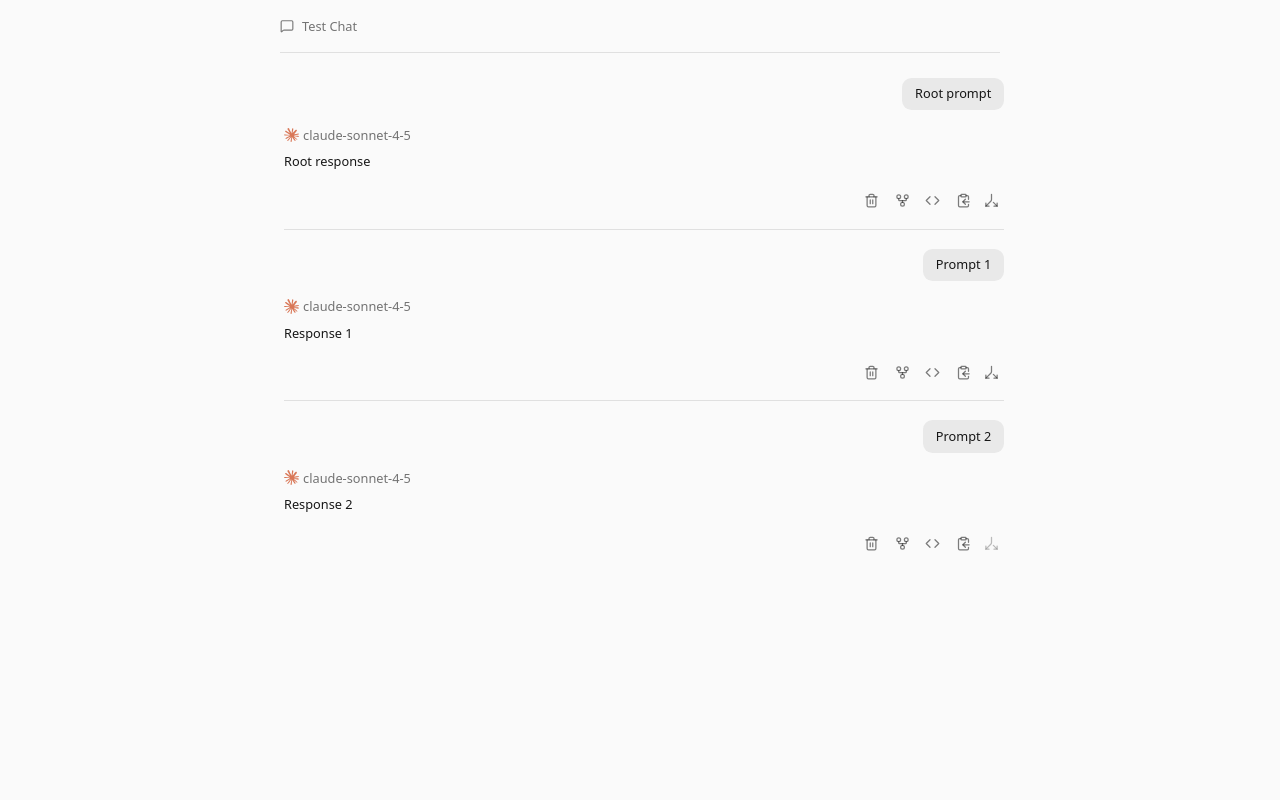
ChatView › delete workflow › clicking delete opens confirmation dialog
The image size is (1280, 800).
Click the button named "Delete" below "Root prompt".
click(871, 201)  # box [859,189,884,213]
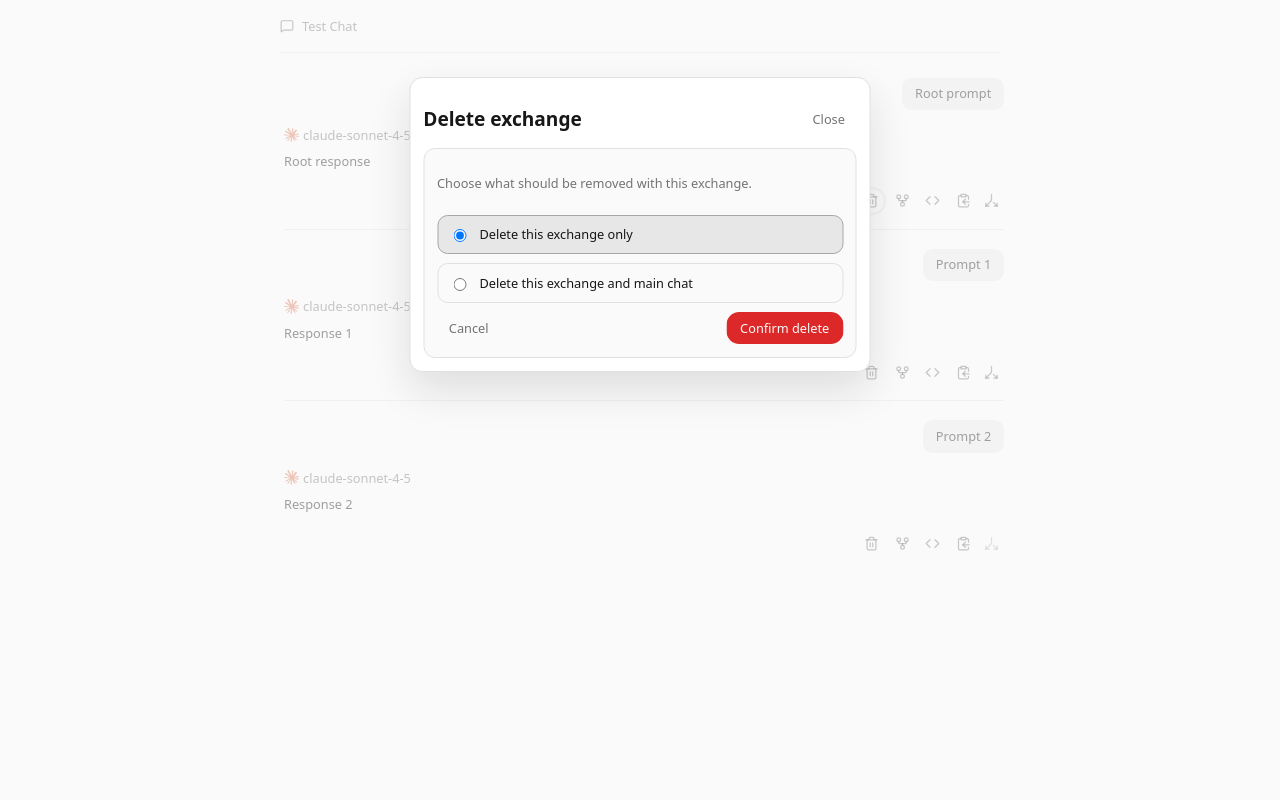
Expected: the heading "Delete exchange" is shown, [423,106,582,132]
Expected: the button "Confirm delete" is shown, [726,312,843,344]
